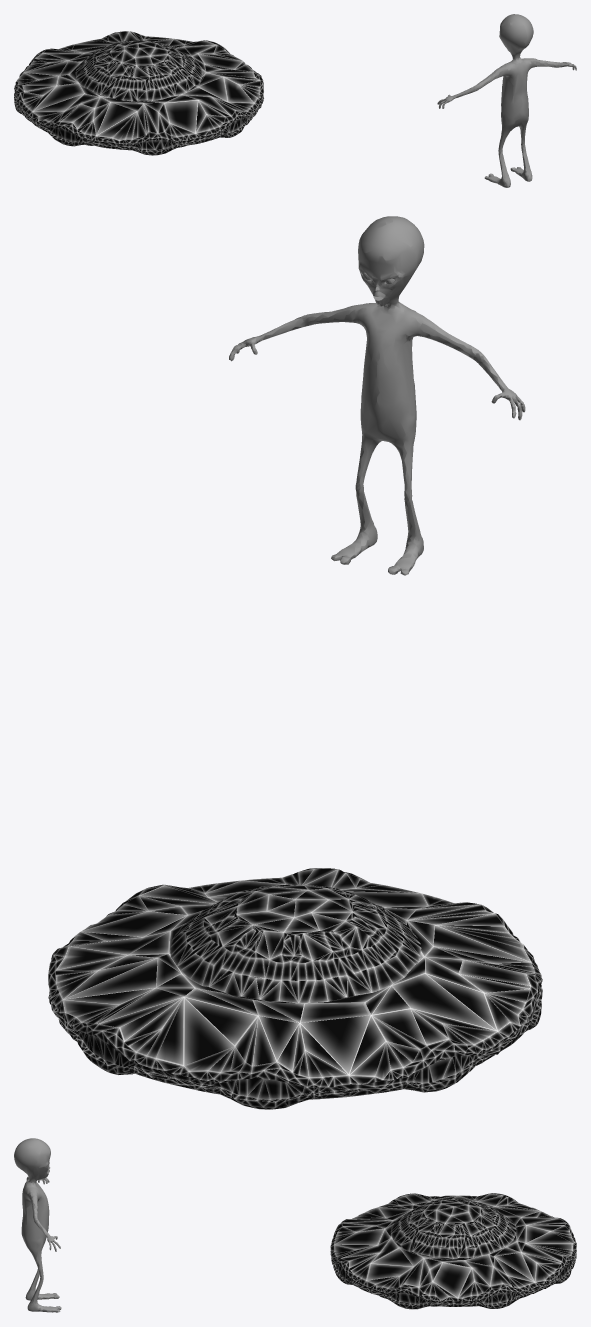
The model's file is frame_044.obj.
3 views of the same model, one above another, from view 1: azimuth 30°, elevation 25°; view 2: azimuth 150°, elevation 25°; view 3: azimuth 270°, elevation 25° (orthographic). The views are drawn at different scales.
Parts seen in each view (by area): view 1: 13884_UFO_Saucer_v1_l2, 10469_GrayAlien_v01; view 2: 13884_UFO_Saucer_v1_l2, 10469_GrayAlien_v01; view 3: 13884_UFO_Saucer_v1_l2, 10469_GrayAlien_v01.
Part boxes in pixels (bbox=[...]): 13884_UFO_Saucer_v1_l2: bbox=[14, 31, 263, 155]; 10469_GrayAlien_v01: bbox=[437, 14, 576, 187]; 13884_UFO_Saucer_v1_l2: bbox=[48, 868, 542, 1109]; 10469_GrayAlien_v01: bbox=[229, 216, 525, 575]; 13884_UFO_Saucer_v1_l2: bbox=[330, 1193, 576, 1309]; 10469_GrayAlien_v01: bbox=[14, 1138, 61, 1312].
Size of the model in its own units: 20.11 by 13.2 by 28.99.
